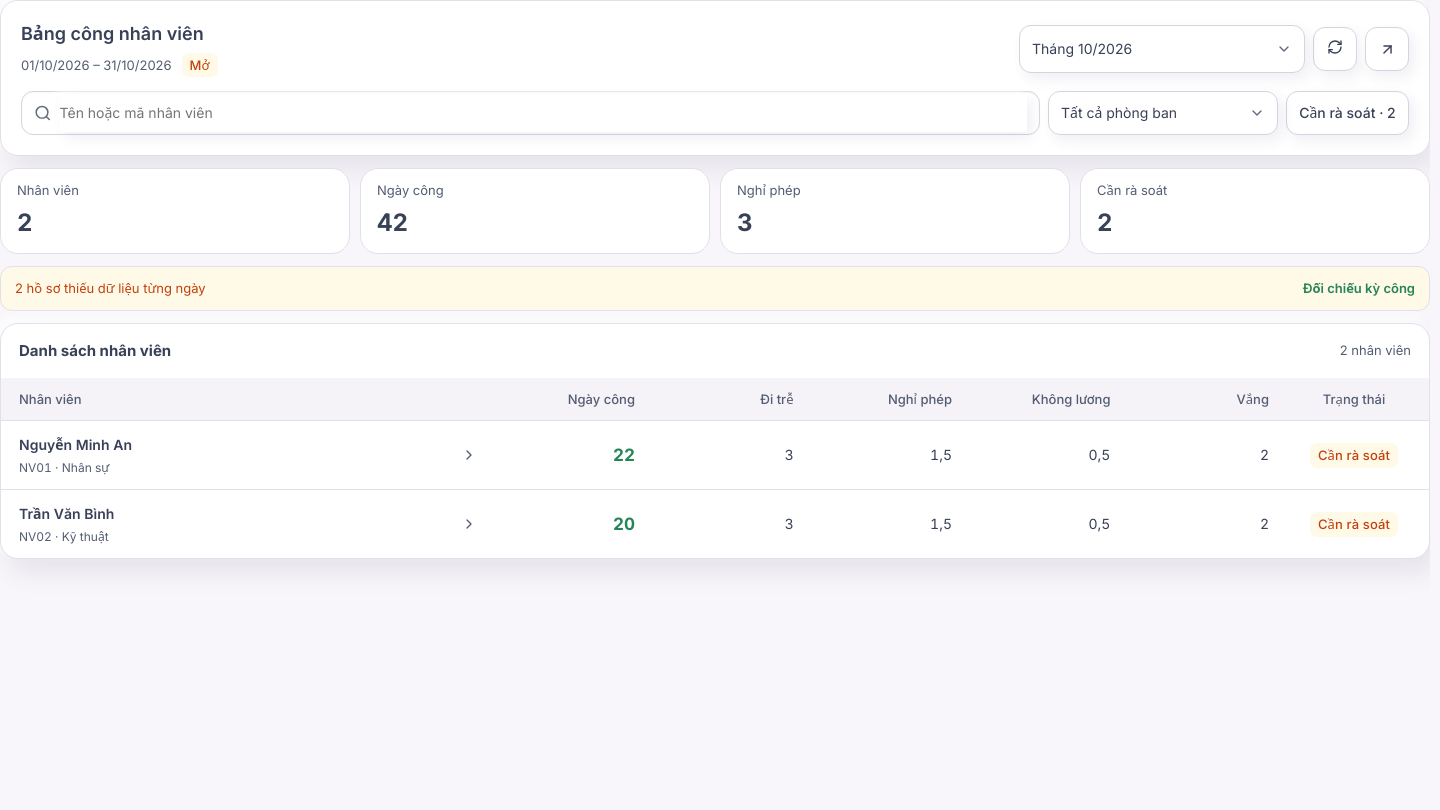
employee attendance summary list › searches and filters by department while preserving whole-period totals
The width and height of the screenshot is (1440, 810).
Check: the table is shown, box [1, 378, 1429, 558]
Type "NV02" into the search field named "Tìm nhân viên" at (543, 113), box [60, 94, 1027, 132]
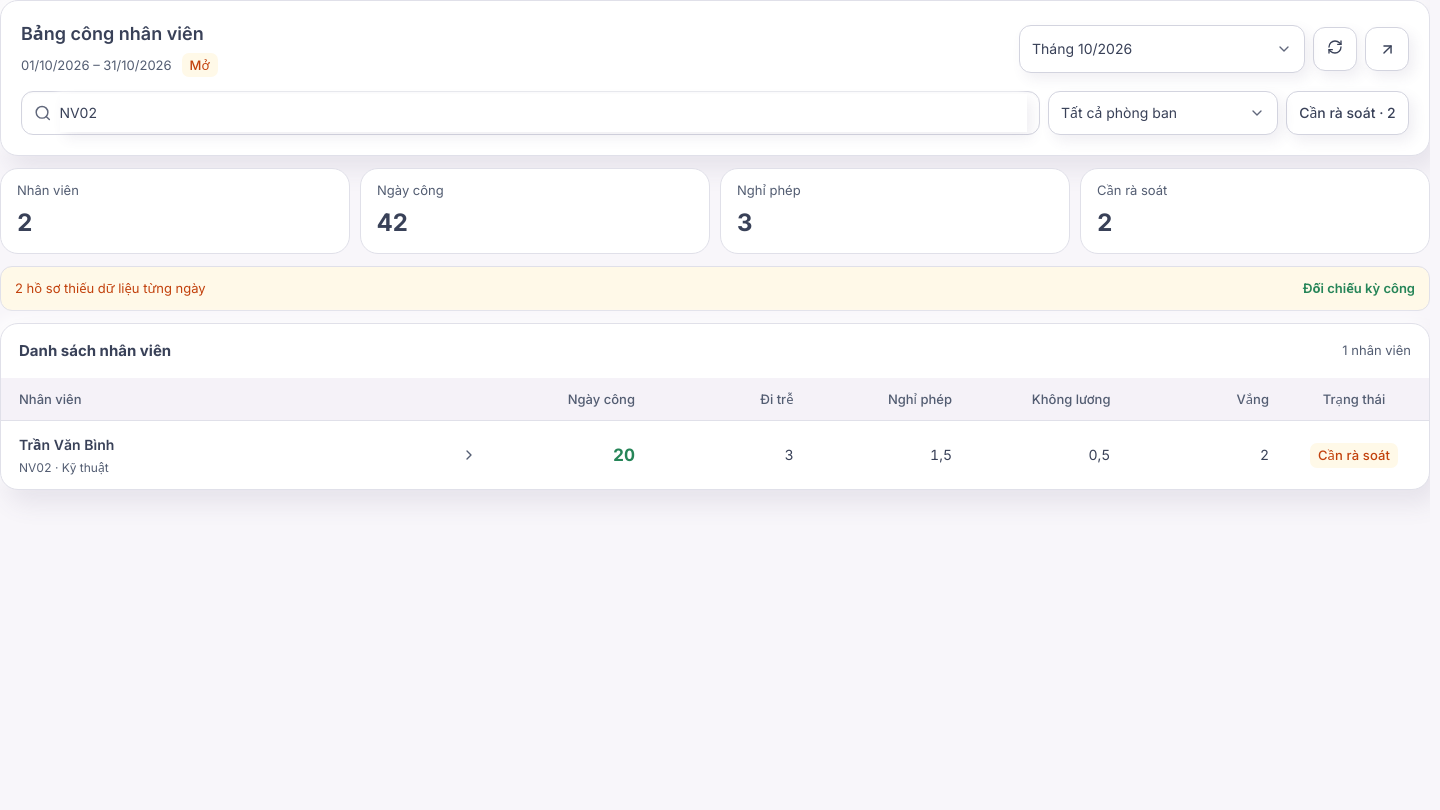
Check: the link "Trần Văn Bình NV02 · Kỹ thuật" is shown, box [19, 433, 476, 477]
Check: the link "Nguyễn Minh An" is gone
Clear the search field named "Tìm nhân viên" at (543, 113), box [60, 94, 1027, 132]
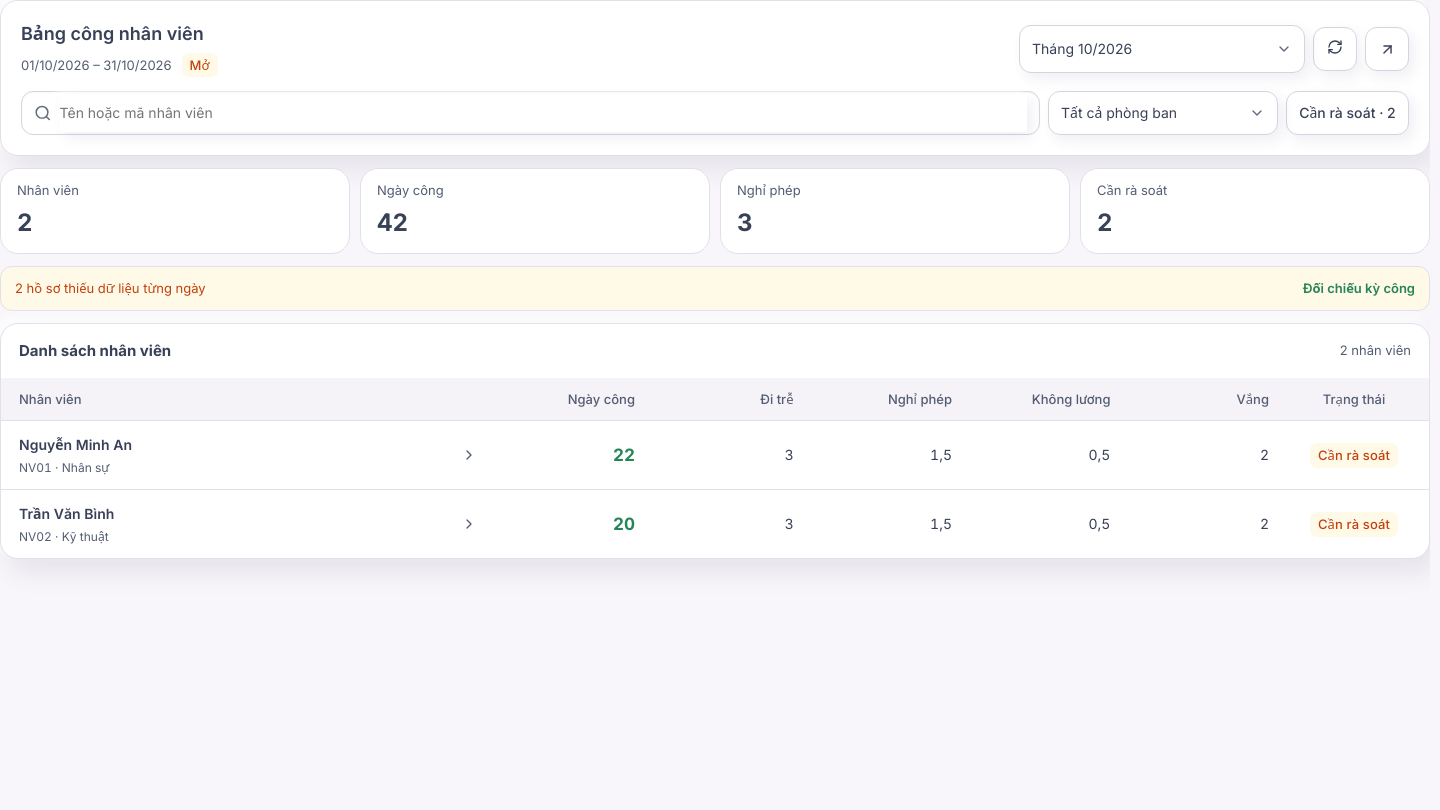
Click the dropdown labelled "phòng ban" at (1163, 113), box [1048, 91, 1278, 135]
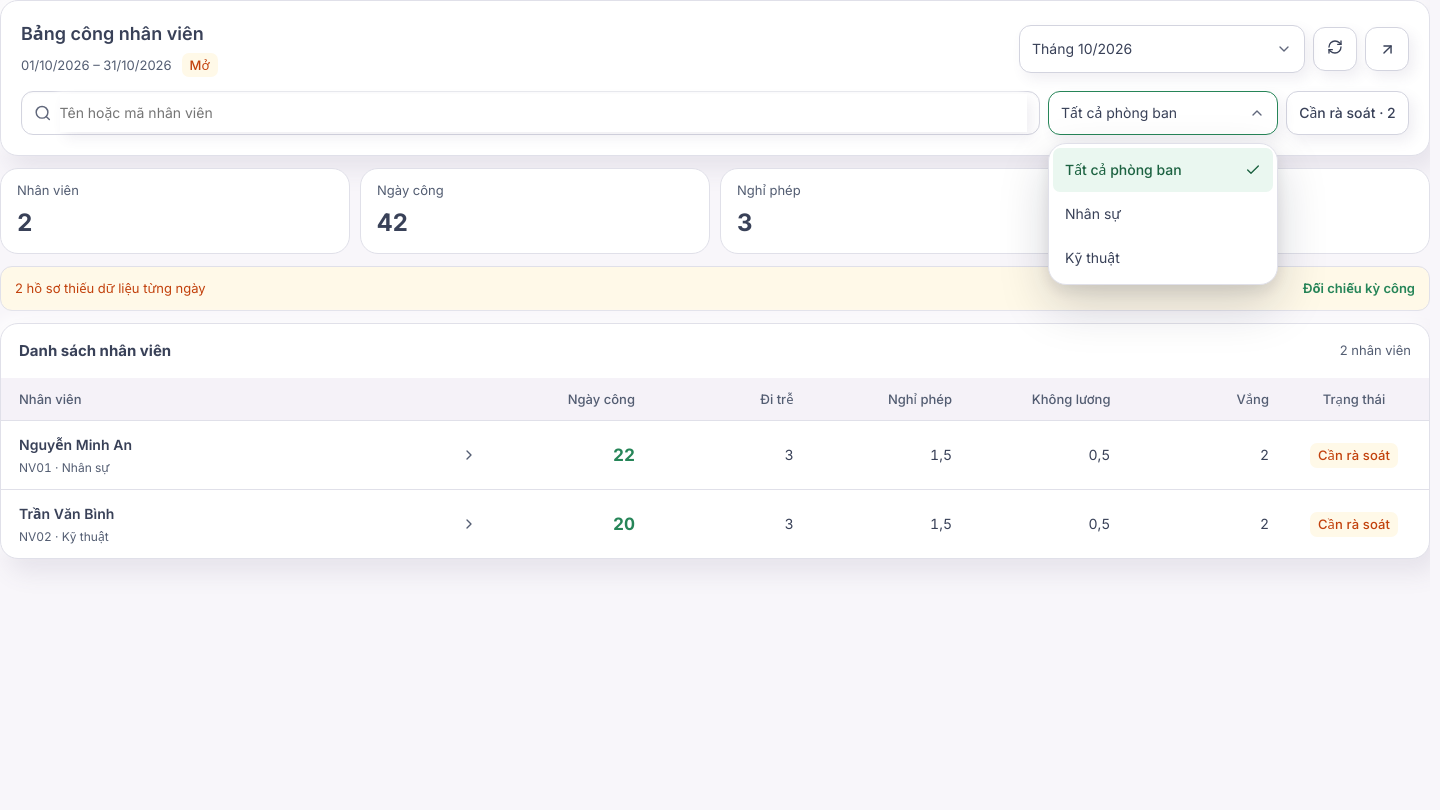
Click the option "Nhân sự" at (1093, 214), box [1065, 205, 1121, 222]
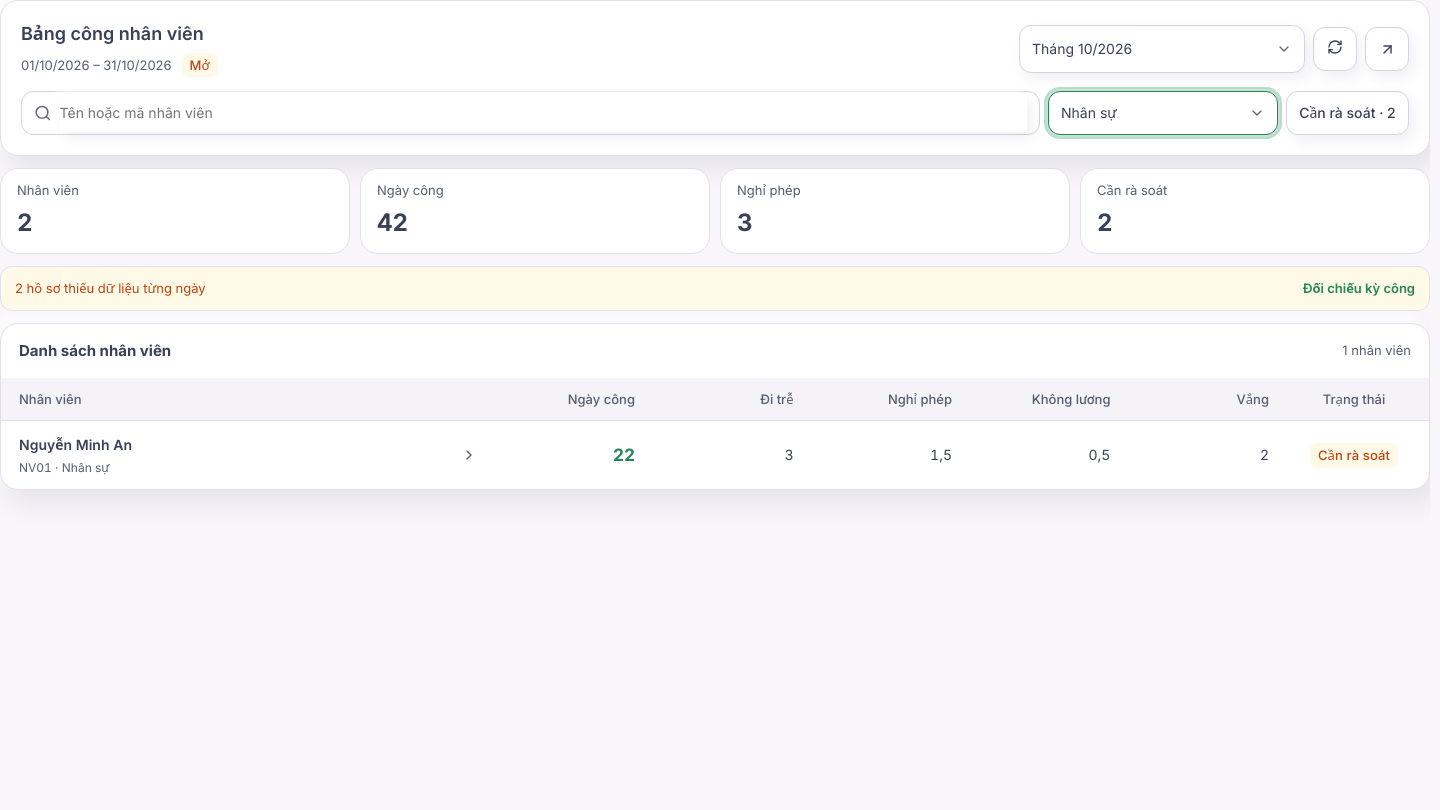
Check: the link "Nguyễn Minh An NV01 · Nhân sự" is shown, box [19, 433, 476, 477]
Check: the link "Trần Văn Bình" is gone
